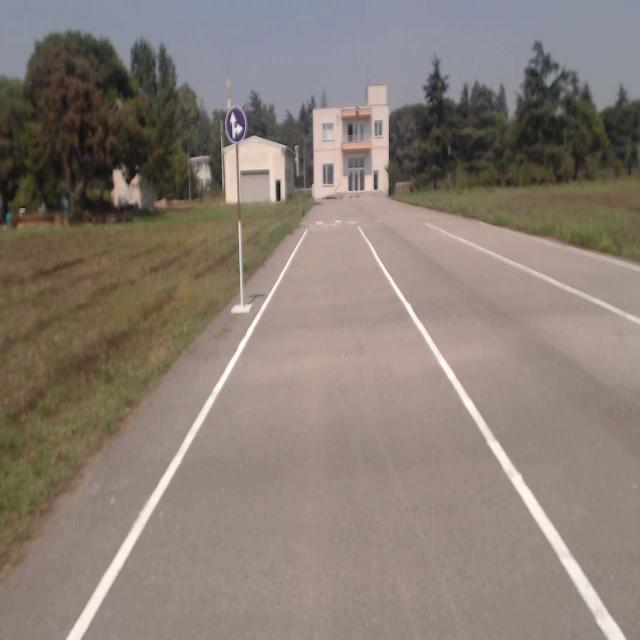ilerisag: (224, 108, 247, 144)
